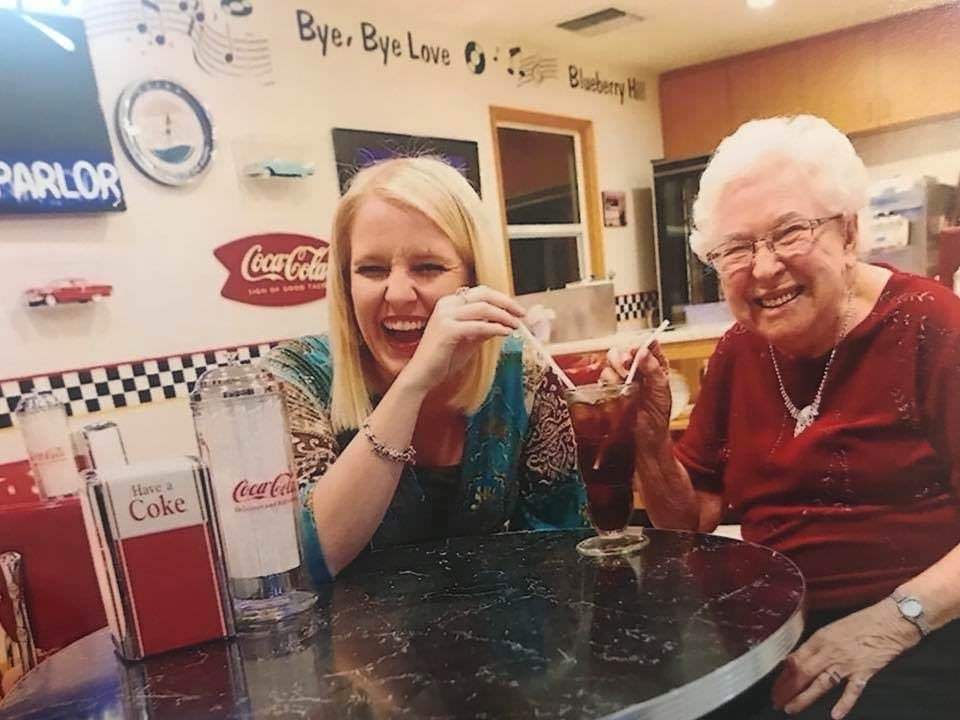face_no_mask: (333, 157, 508, 372), (702, 144, 853, 339)
